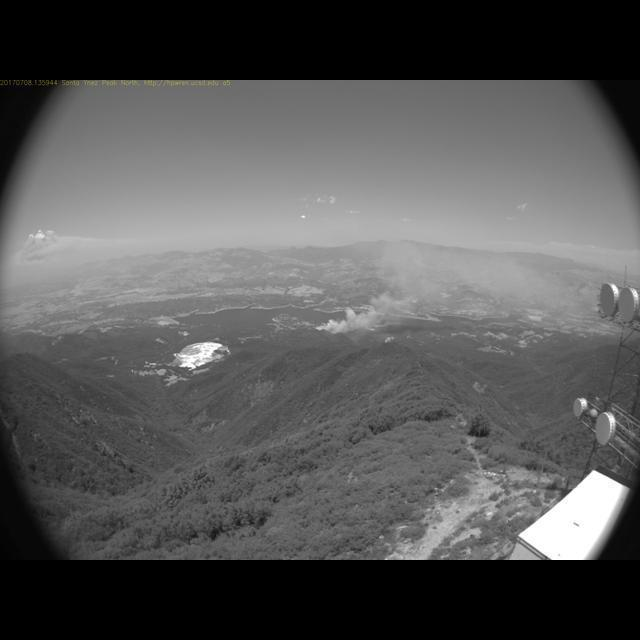Smoke: (317, 234, 587, 335)
